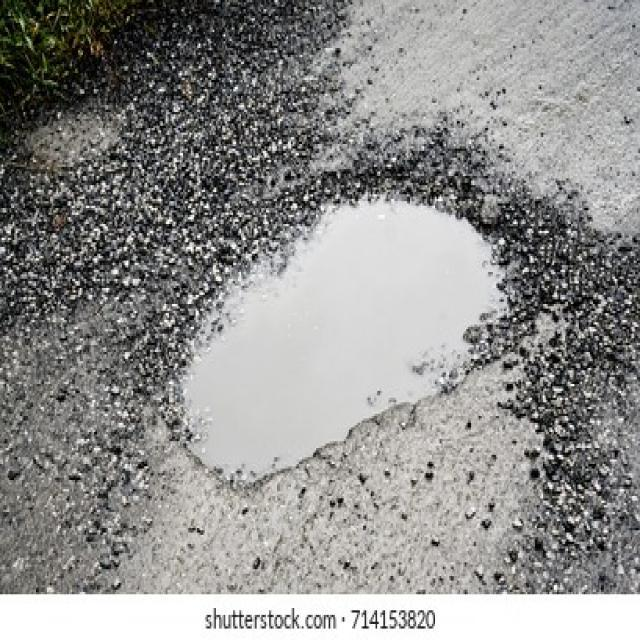Pothole: (150, 166, 534, 492)
